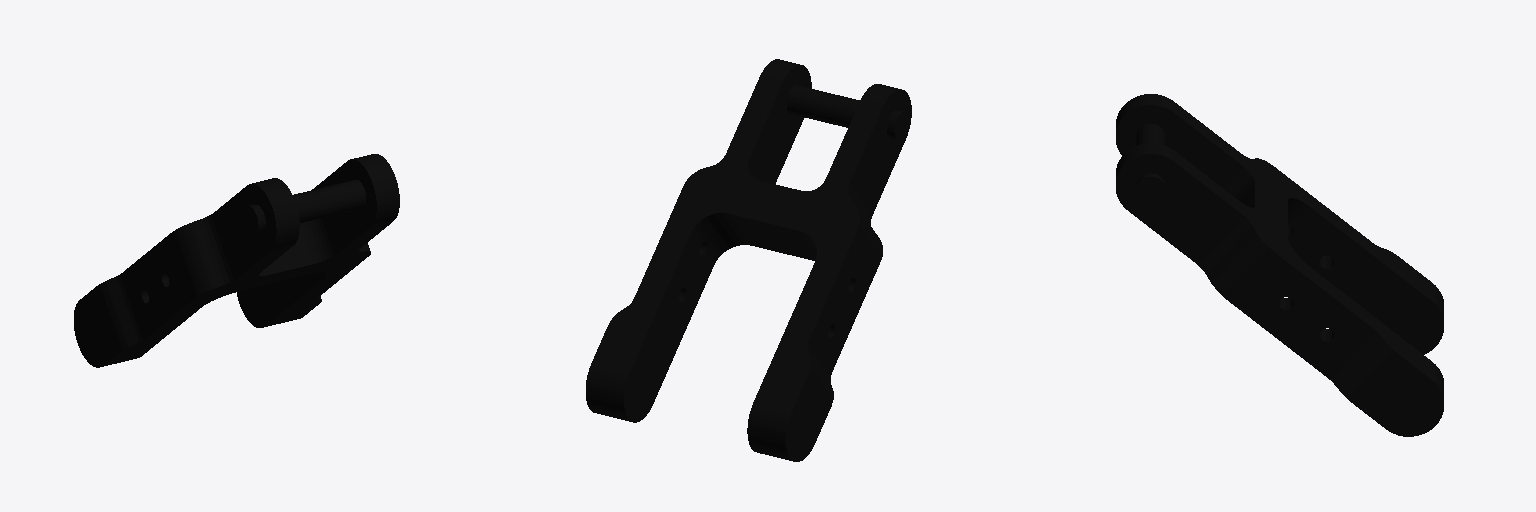
Rendered from robotiq_arg2f_85_inner_knuckle.obj.
3 renders of one model, left to right at view 1: azimuth 30°, elevation 25°; view 2: azimuth 150°, elevation 25°; view 3: azimuth 270°, elevation 25°, orthographic.
Parts seen in each view (by area): view 1: geometry0; view 2: geometry0; view 3: geometry0.
Part boxes in pixels (x1,y1,x2,y2): geometry0: (74,154,399,367); geometry0: (586,59,911,461); geometry0: (1116,94,1443,436).
Size of the model in its own units: 0.039 by 0.0491 by 0.0554.